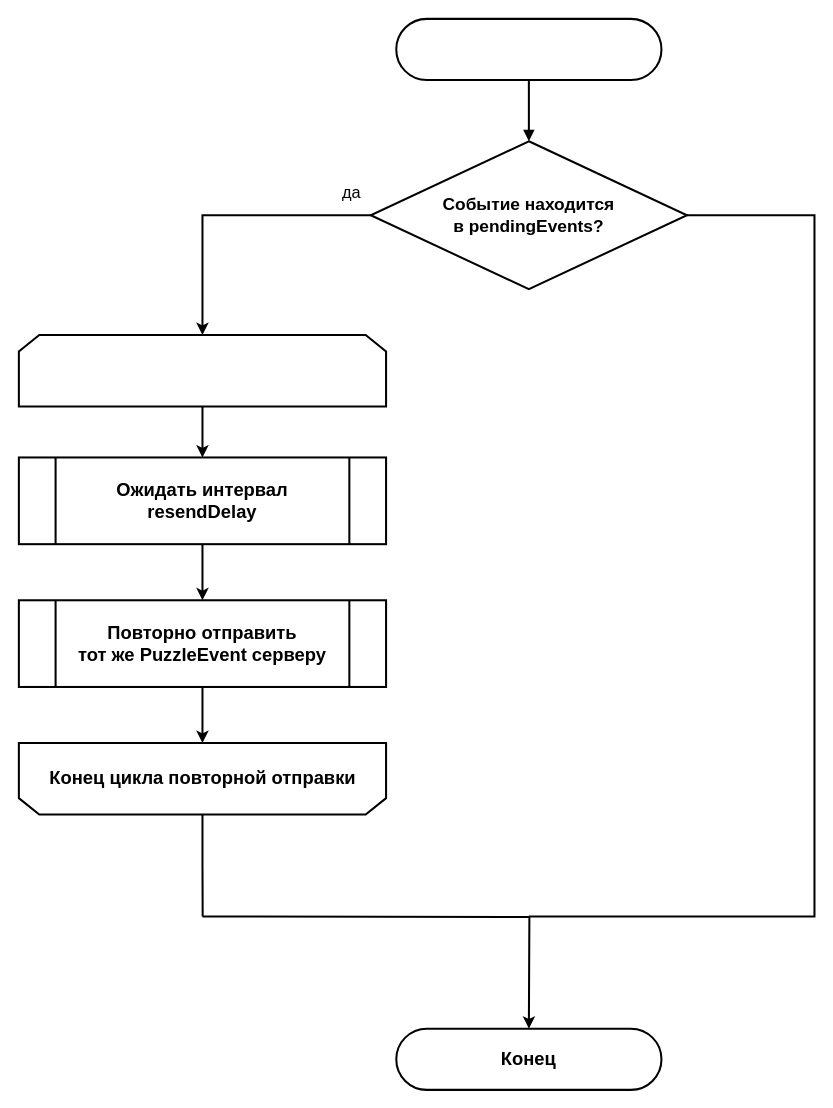
The diagram is 833 pixels wide and 1108 high, and some of its shapes have lost their labels. The centre of each missing label's shape, as x and y in pixels:
Начало: the point at 528,49
Начало цикла повторной отправки: the point at 202,370
